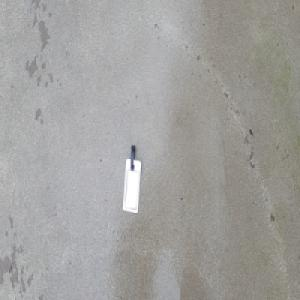LuggageTag: (121, 143, 141, 214)
